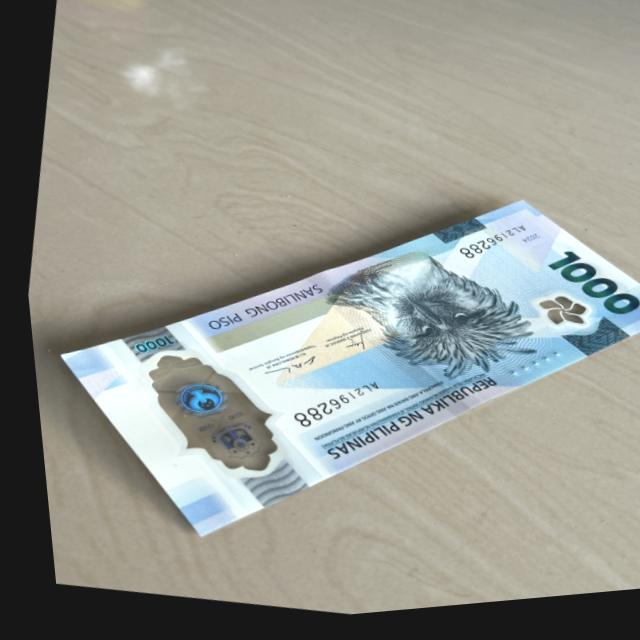clear_window: (117, 333, 287, 492)
eagle: (340, 249, 519, 389)
sampaguita: (524, 294, 587, 344)
